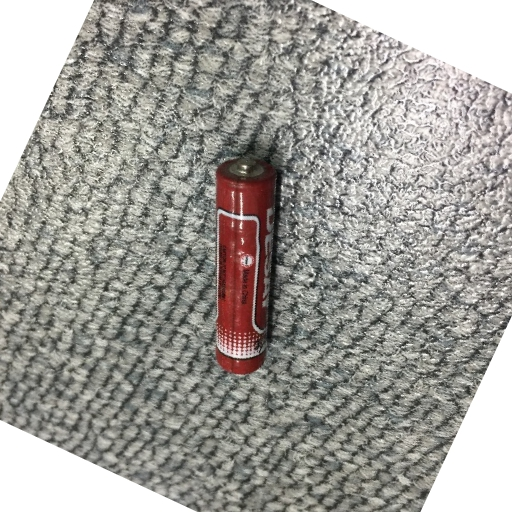Battery_0: (211, 151, 277, 380)
